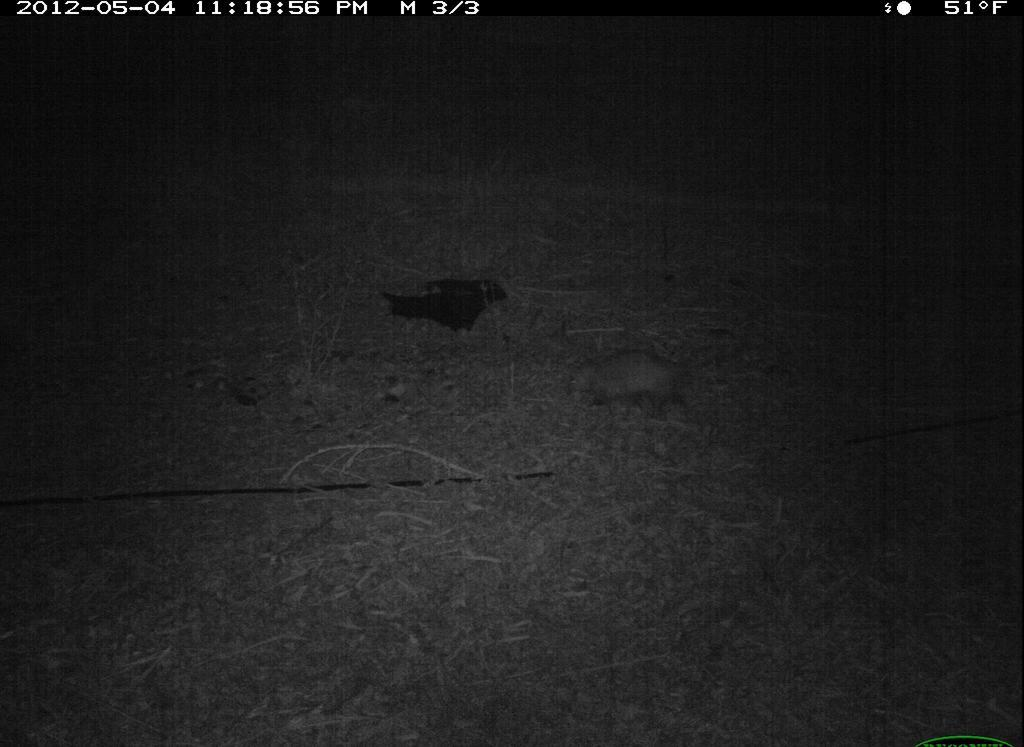opossum: (555, 342, 715, 422)
